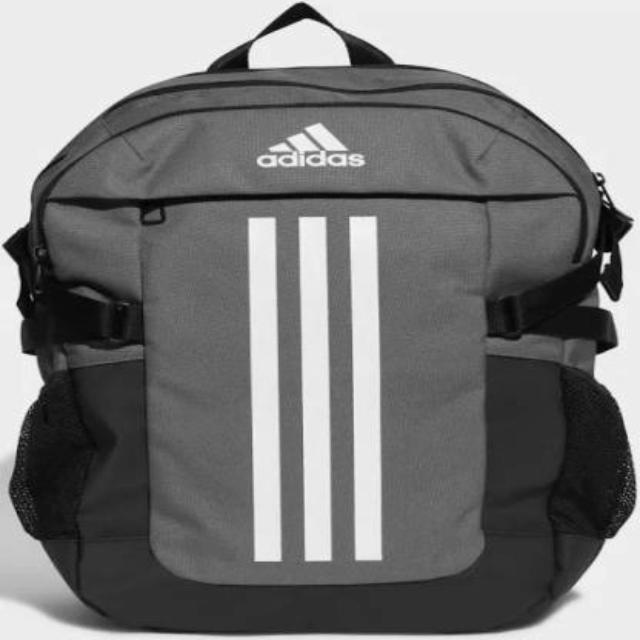ADIDAS_original: (208, 98, 424, 588)
